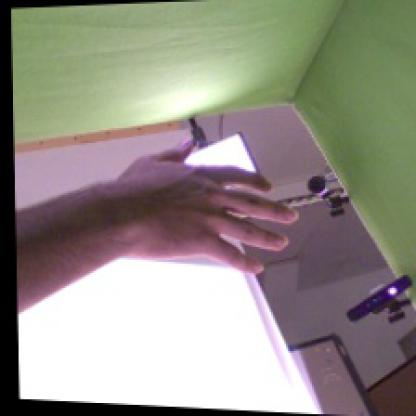Hand: (108, 138, 299, 278)
